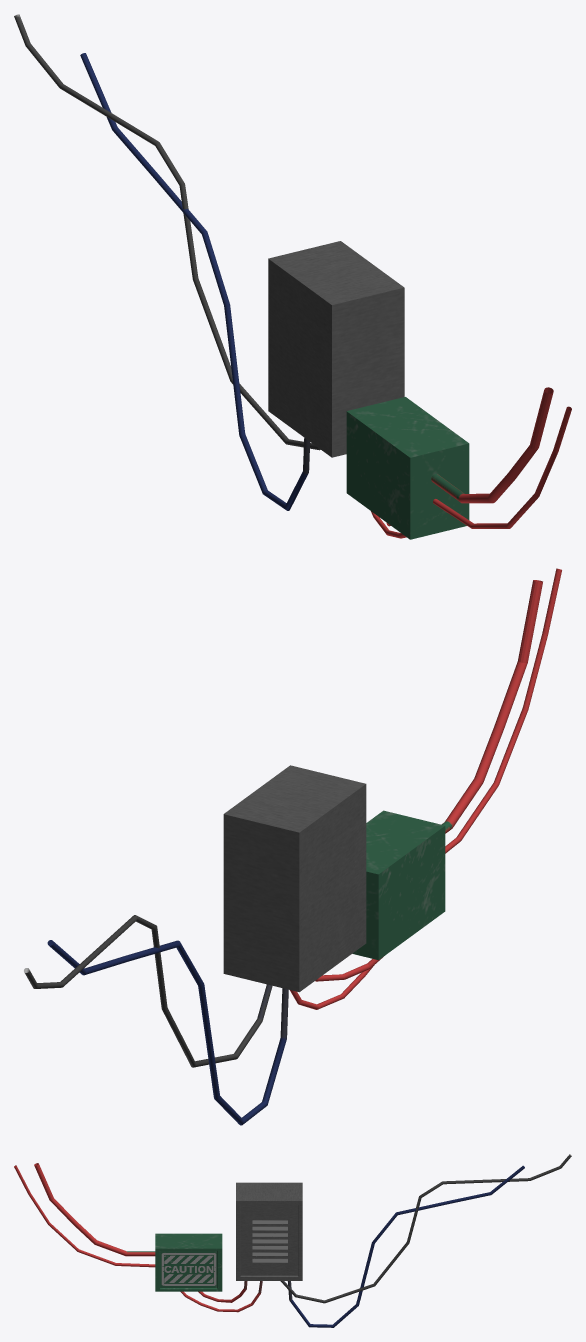
File: HallwayPart_ElectricBox.fbx
3 views of the same model, one above another, from view 1: azimuth 30°, elevation 25°; view 2: azimuth 150°, elevation 25°; view 3: azimuth 270°, elevation 25° (orthographic). The views are drawn at different scales.
Parts seen in each view (by area): view 1: ElectricBox002; view 2: ElectricBox002; view 3: ElectricBox002.
Boxes of the visible parts, bbox=[...] form: ElectricBox002: bbox=[14, 14, 571, 539]; ElectricBox002: bbox=[24, 568, 561, 1125]; ElectricBox002: bbox=[14, 1154, 571, 1327].
Size of the model in its own units: 1.89 by 7.99 by 24.06.
